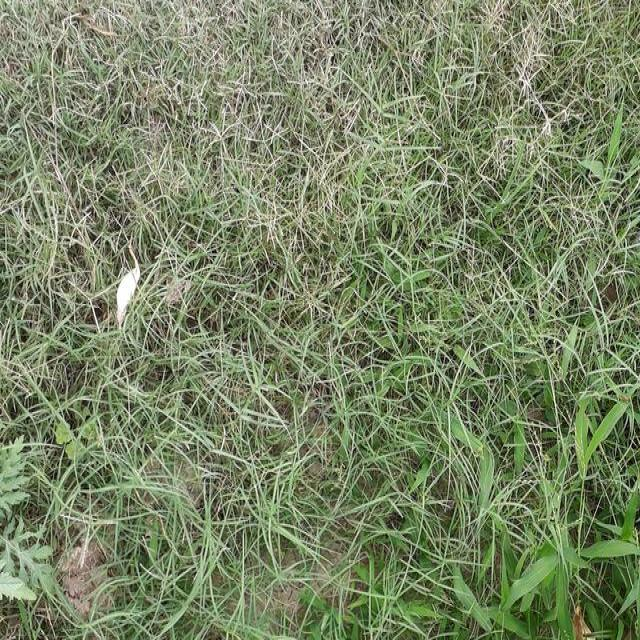weed: (359, 313, 640, 640), (6, 294, 266, 634)
